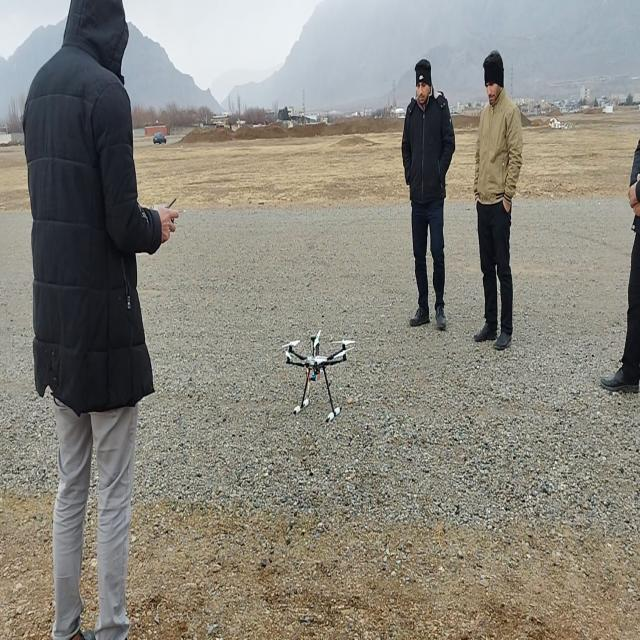drone: (281, 325, 356, 425)
